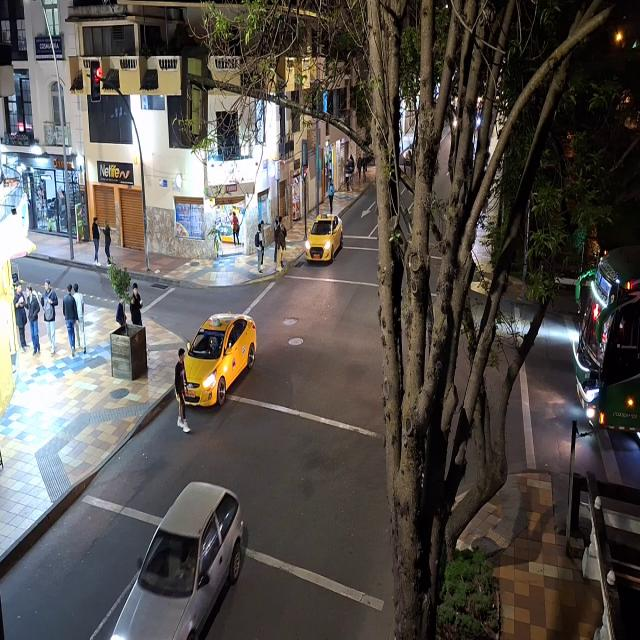BUS: (574, 251, 640, 444)
SED: (102, 484, 243, 640), (179, 313, 254, 405), (310, 214, 344, 259)
